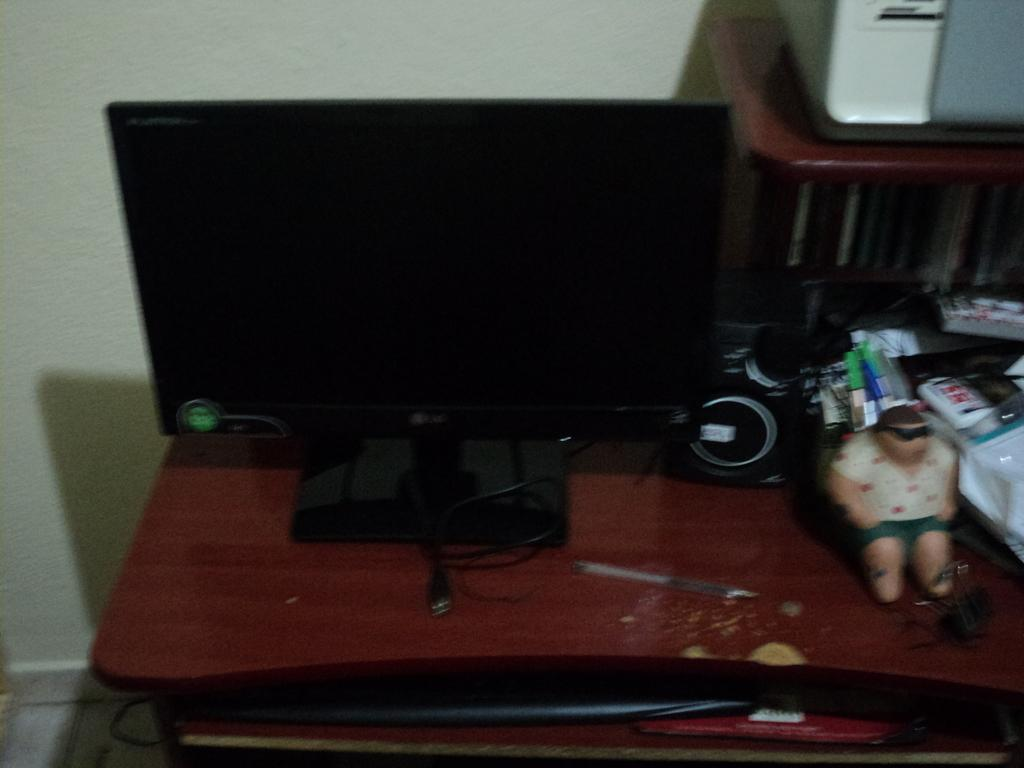Computer-monitor: (108, 104, 730, 538)
